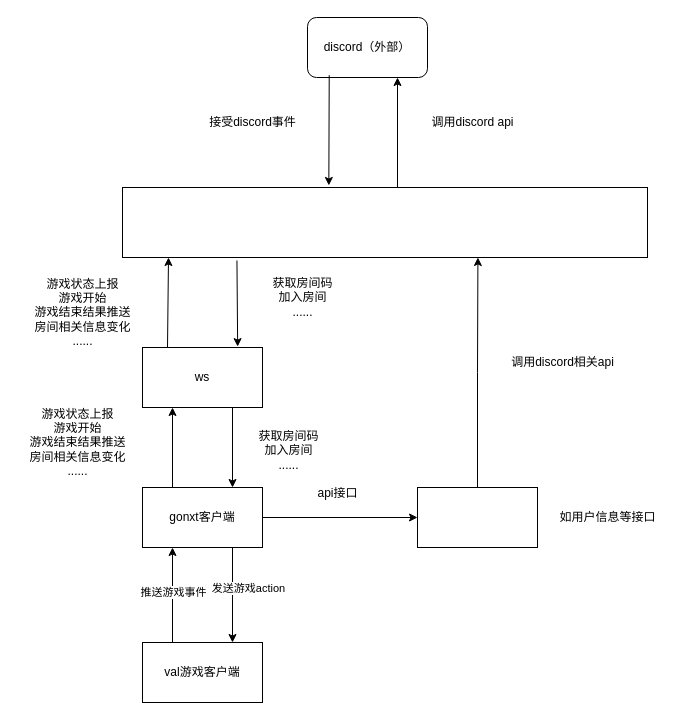
This 684x720 diagram has some shape labels left out. Each missing label, with the centre of its shape:
"gonxt-discord-bot" belongs at (385,222).
"user-api" belongs at (477,517).
